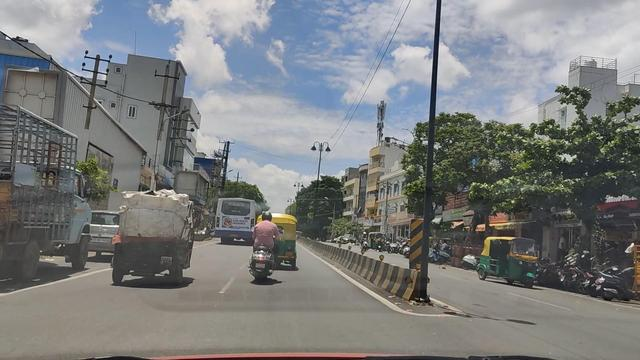HMV: (0, 99, 93, 288), (220, 194, 258, 243)
LMV: (117, 188, 196, 291), (238, 221, 314, 266), (249, 213, 277, 279)
